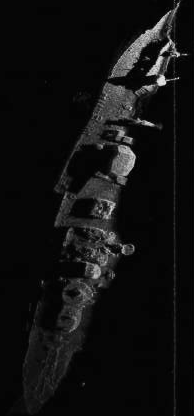ship: (20, 1, 180, 405)
